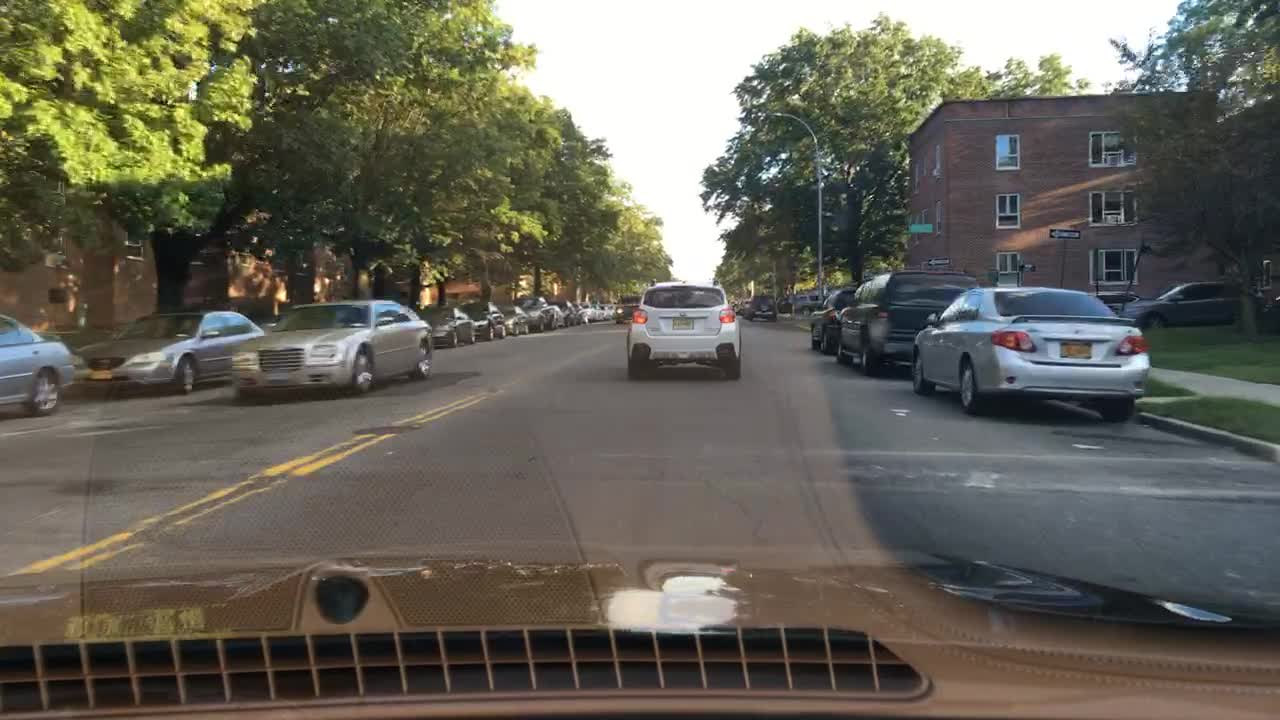car: (911, 279, 1152, 426), (231, 297, 433, 399), (834, 269, 978, 371), (84, 313, 263, 391), (628, 282, 740, 382), (0, 312, 78, 418), (1124, 282, 1250, 331), (814, 286, 854, 354), (426, 304, 474, 353), (468, 300, 507, 344), (1091, 290, 1140, 321), (501, 303, 533, 337), (742, 293, 775, 320), (614, 294, 642, 325), (790, 288, 821, 315), (538, 302, 561, 332), (554, 298, 576, 329), (569, 300, 592, 326), (525, 307, 546, 335), (593, 302, 619, 321), (771, 290, 790, 313), (589, 301, 601, 325), (731, 300, 743, 315)
traffic sign: (1046, 227, 1084, 239), (924, 257, 953, 268), (912, 221, 937, 233)
